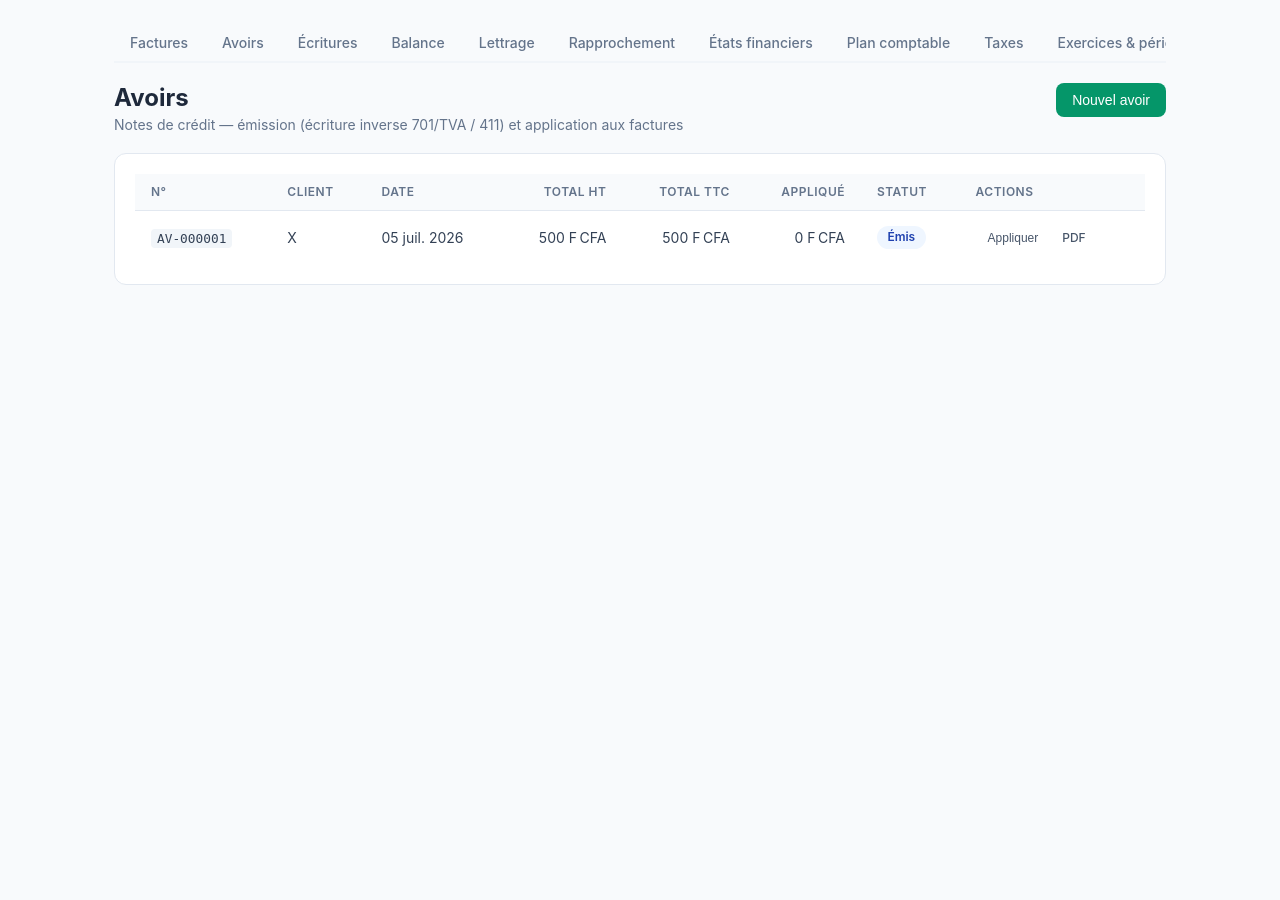
CreditNotesView › surfaces a server error when application exceeds the balance
Step 1. Click the button with test id "apply-cn2" → (1013,238), box top-left (976, 225), bottom-right (1050, 251)
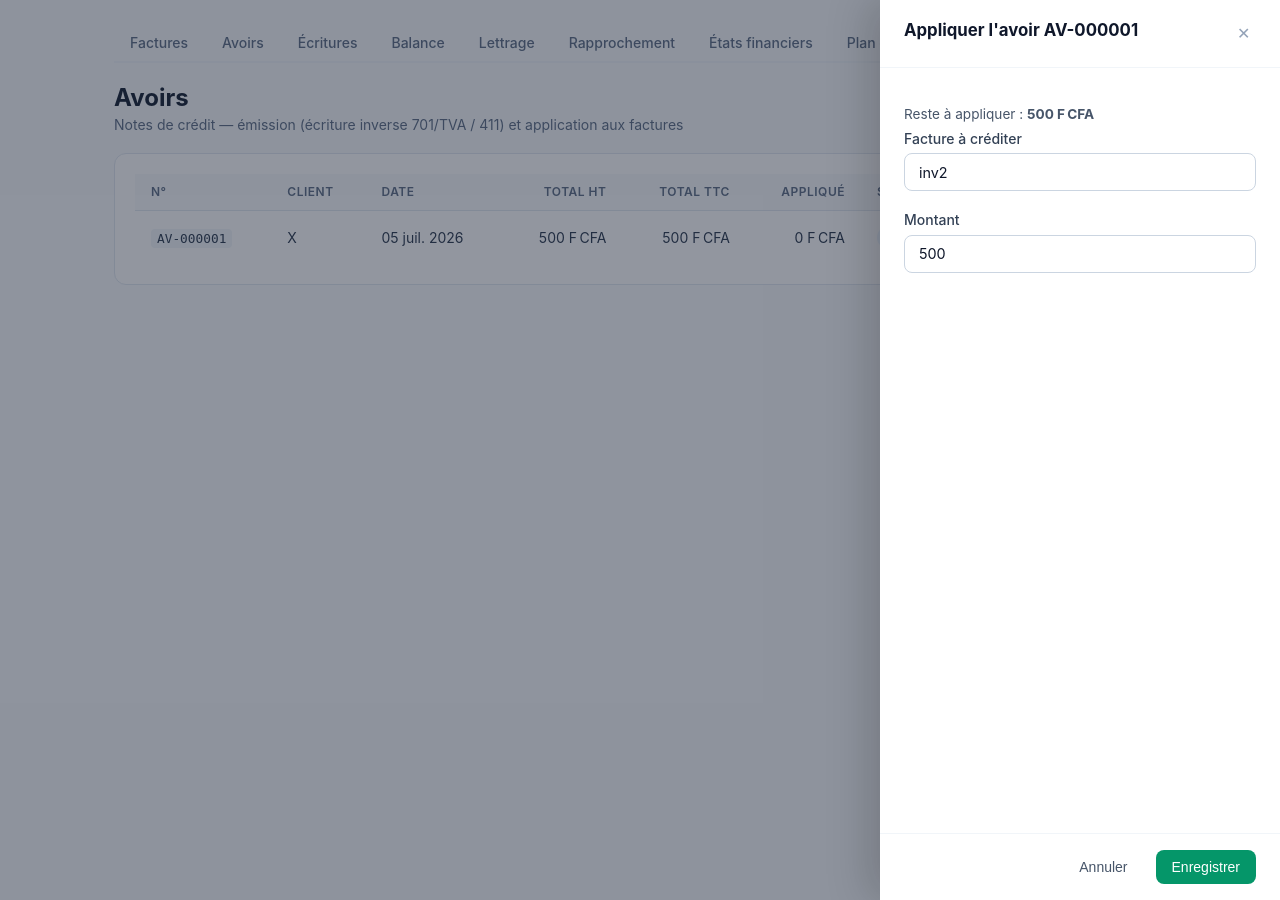
Expected: the field with test id "apply-invoice-id" holds "inv2", top-left (904, 153), bottom-right (1256, 191)
Step 2. Click the button with test id "apply-submit" → (1206,867), box top-left (1156, 850), bottom-right (1256, 884)
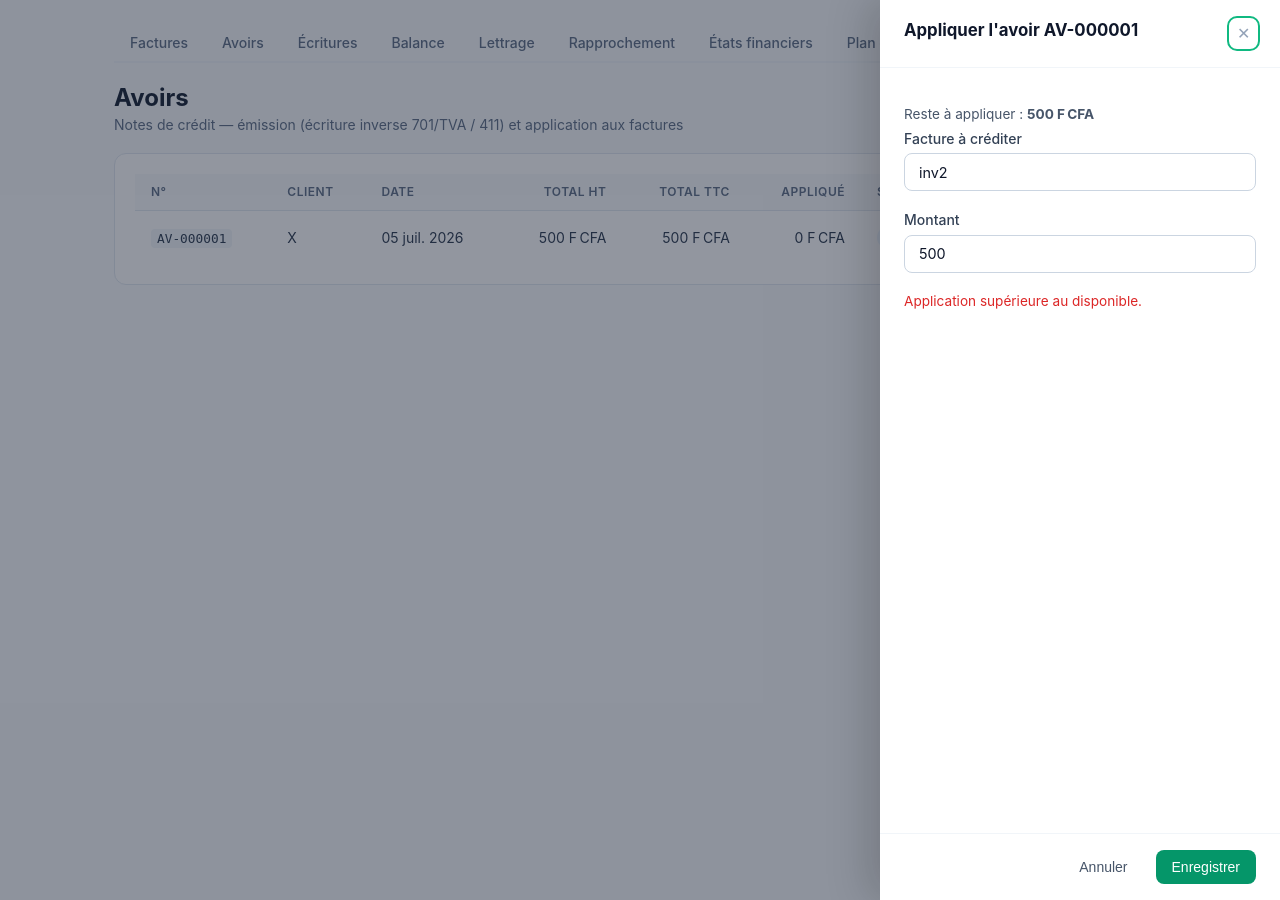
Expected: the text "Application supérieure au disponible." is shown, top-left (904, 293), bottom-right (1142, 309)
